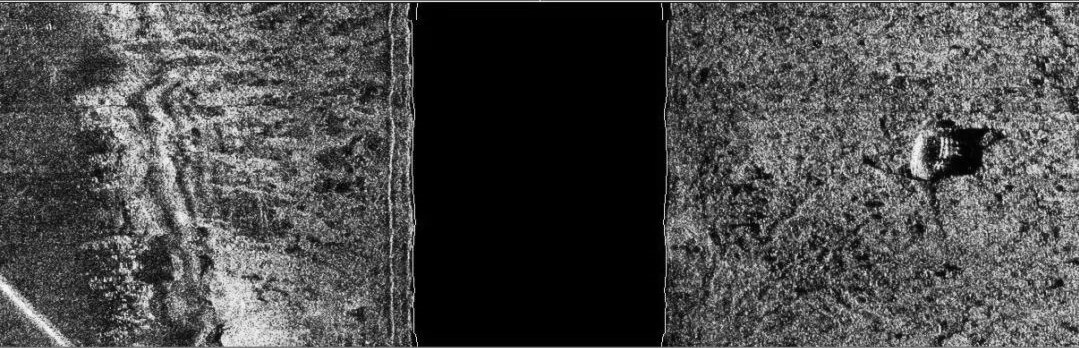ship: (906, 122, 957, 180)
